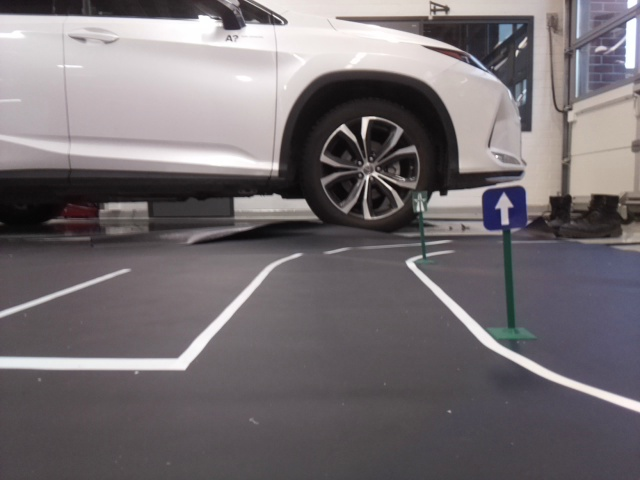HighwayEntrance: (412, 192, 428, 212)
OneWay: (482, 188, 526, 229)
